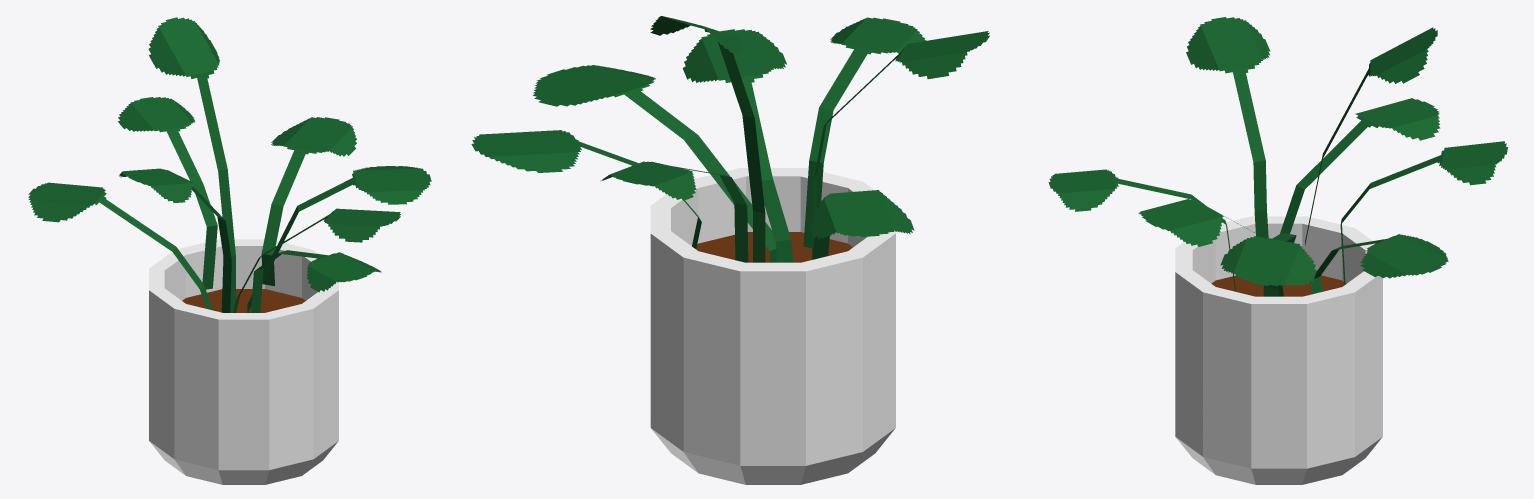
Rendered from chinese_money-plant.gltf.
3 views of the same model, side by side, from view 1: azimuth 30°, elevation 25°; view 2: azimuth 150°, elevation 25°; view 3: azimuth 270°, elevation 25° (orthographic). The views are drawn at different scales.
Visible parts, largest first — view 1: base, plane (×8); view 2: base, plane (×8); view 3: base, plane (×8).
Boxes of the visible parts, box(x1,y1,x2,y2) form: base: box(149, 239, 338, 484); plane (×8): box(28, 17, 431, 312); base: box(650, 168, 895, 484); plane (×8): box(471, 16, 989, 262); base: box(1175, 216, 1382, 484); plane (×8): box(1048, 17, 1507, 296).
Bounding box in the file's own units: 1.11 × 1.1 × 1.16.
Materials: 2 (2 with a texture image).
